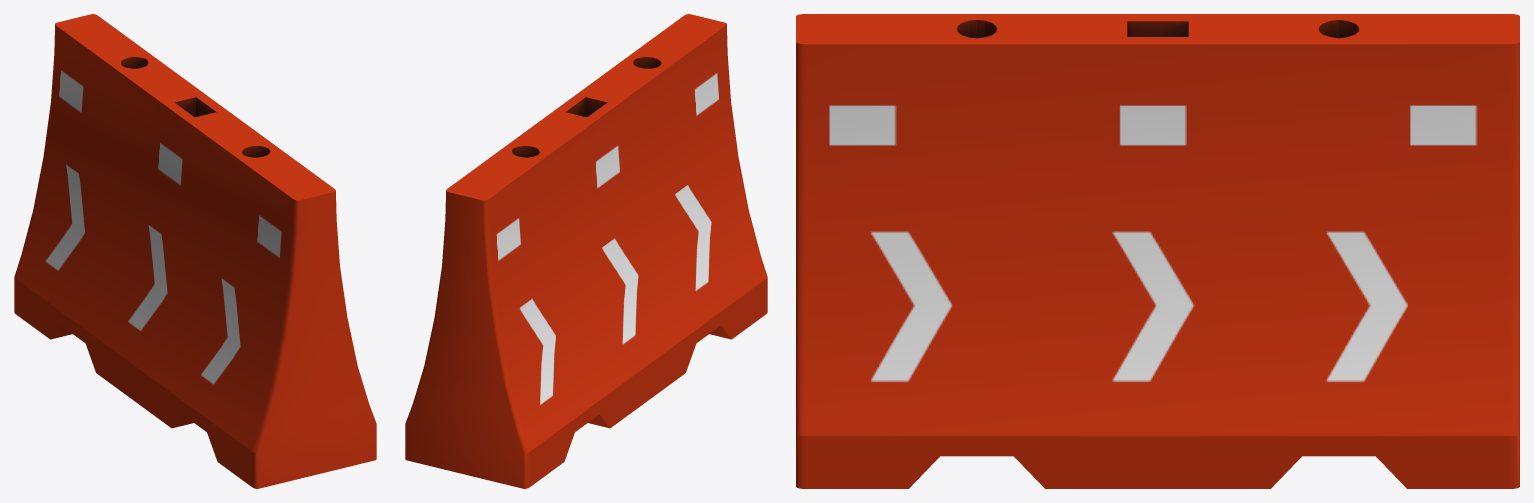
3 views of the same model, side by side, from view 1: azimuth 30°, elevation 25°; view 2: azimuth 150°, elevation 25°; view 3: azimuth 270°, elevation 25° (orthographic). The views are drawn at different scales.
Parts seen in each view (by area): view 1: t4pc; view 2: t4pc; view 3: t4pc.
Boxes of the visible parts, bbox=[...] form: t4pc: bbox=[14, 14, 376, 488]; t4pc: bbox=[405, 14, 767, 488]; t4pc: bbox=[796, 14, 1519, 488].
Size of the model in its own units: 75.68 by 259 by 164.
